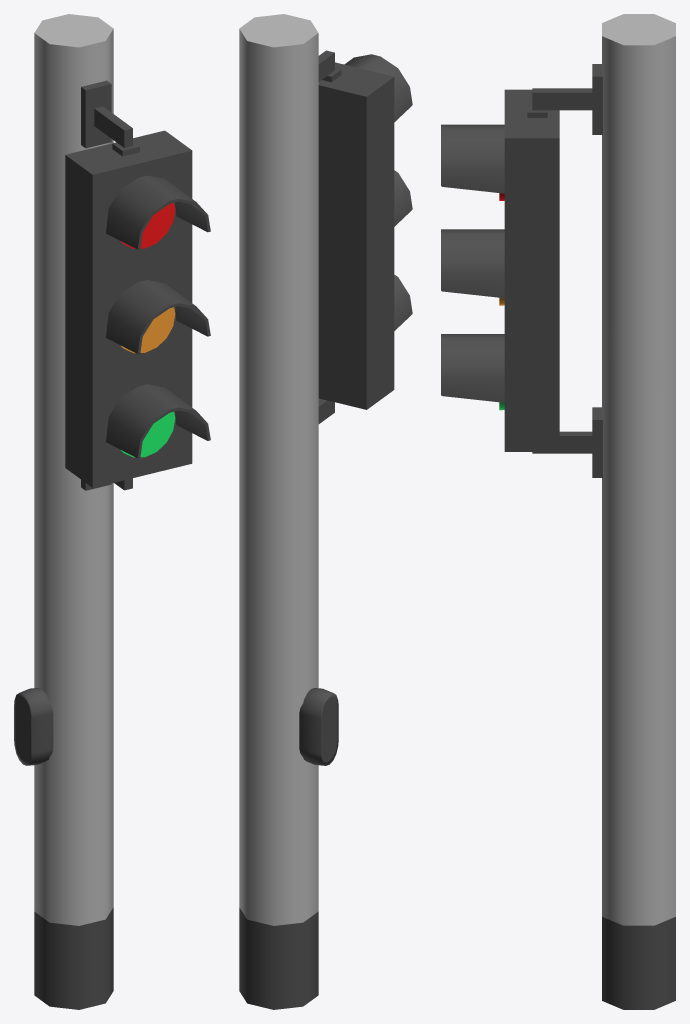
The model's file is trafficlight.fbx.
3 renders of one model, left to right at view 1: azimuth 30°, elevation 25°; view 2: azimuth 150°, elevation 25°; view 3: azimuth 270°, elevation 25°, orthographic.
Parts seen in each view (by area): view 1: TrafficLight, pCube415, pCube419, pCube417, pCube416, pCube414, pCube418, pCube420, pSphere95, pSphere94, pSphere93; view 2: TrafficLight, pCube415, pCube419, pCube417, pCube414, pCube416, pCube418, pCube420; view 3: TrafficLight, pCube415, pCube417, pCube419, pCube414, pCube416, pCube418, pCube420, pCube421.
Boxes of the visible parts, x1=… form: TrafficLight: x1=14, y1=14, x2=113, y2=1009; pCube415: x1=65, y1=130, x2=192, y2=278; pCube419: x1=65, y1=359, x2=192, y2=487; pCube417: x1=65, y1=255, x2=192, y2=383; pCube416: x1=106, y1=280, x2=210, y2=353; pCube414: x1=106, y1=175, x2=210, y2=249; pCube418: x1=106, y1=384, x2=210, y2=458; pCube420: x1=81, y1=80, x2=139, y2=156; pSphere95: x1=121, y1=411, x2=175, y2=457; pSphere94: x1=121, y1=307, x2=175, y2=353; pSphere93: x1=121, y1=203, x2=175, y2=248; TrafficLight: x1=239, y1=14, x2=338, y2=1009; pCube415: x1=318, y1=62, x2=394, y2=201; pCube419: x1=318, y1=286, x2=394, y2=409; pCube417: x1=318, y1=181, x2=394, y2=305; pCube414: x1=344, y1=54, x2=412, y2=122; pCube416: x1=394, y1=170, x2=412, y2=226; pCube418: x1=394, y1=274, x2=412, y2=330; pCube420: x1=318, y1=50, x2=341, y2=82; TrafficLight: x1=602, y1=14, x2=675, y2=1009; pCube415: x1=504, y1=89, x2=559, y2=242; pCube417: x1=504, y1=243, x2=559, y2=347; pCube419: x1=504, y1=347, x2=559, y2=451; pCube414: x1=441, y1=124, x2=504, y2=193; pCube416: x1=441, y1=229, x2=504, y2=298; pCube418: x1=441, y1=334, x2=504, y2=402; pCube420: x1=527, y1=64, x2=602, y2=134; pCube421: x1=532, y1=407, x2=602, y2=477.
Bounding box in the file's own units: 35.88 × 323 × 71.22.
